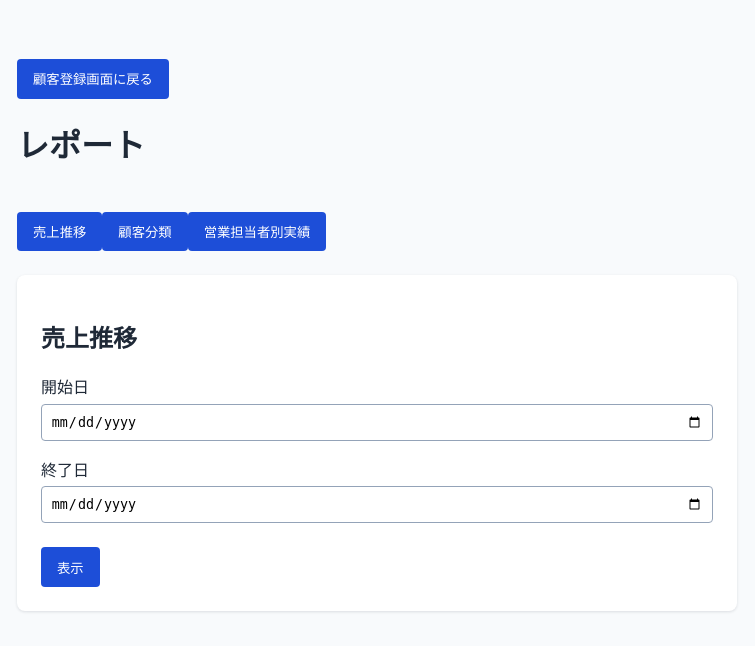
it: 営業担当者別実績レポート › 正しい期間でAPIを呼び、レスポンス順に金額と整数件数を表へ表示する
Click the button "営業担当者別実績": (257,232) [188, 212, 326, 252]
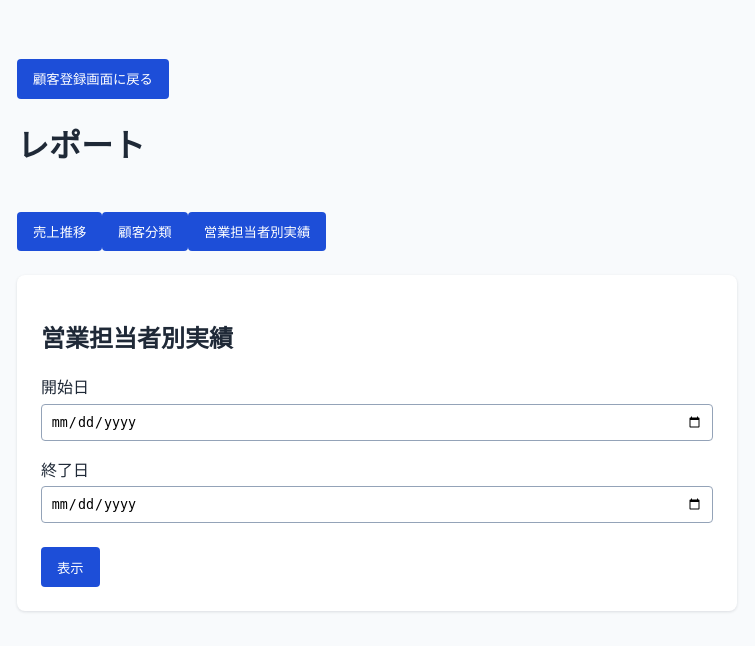
In the date field labelled "開始日": (377,422) [41, 404, 713, 441], type "2026-01-01"
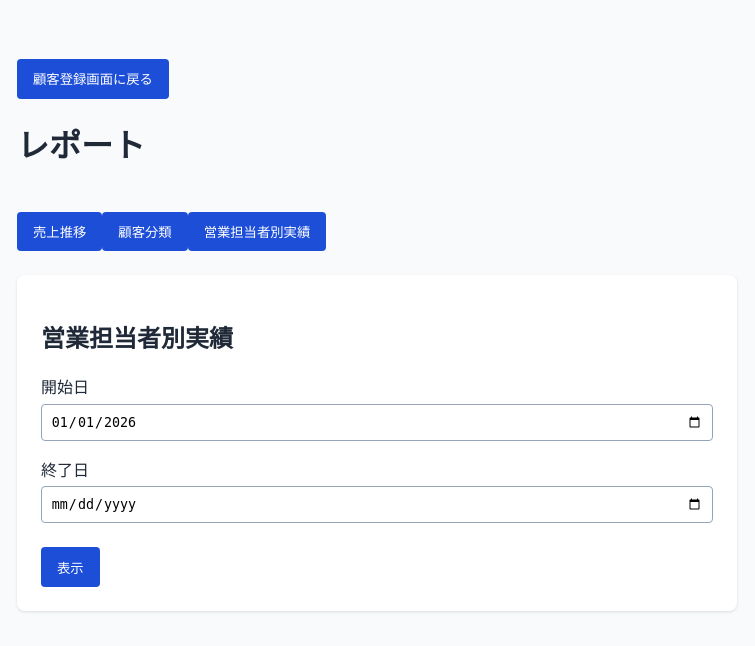
In the date field labelled "終了日": (377,505) [41, 486, 713, 523], type "2026-03-31"
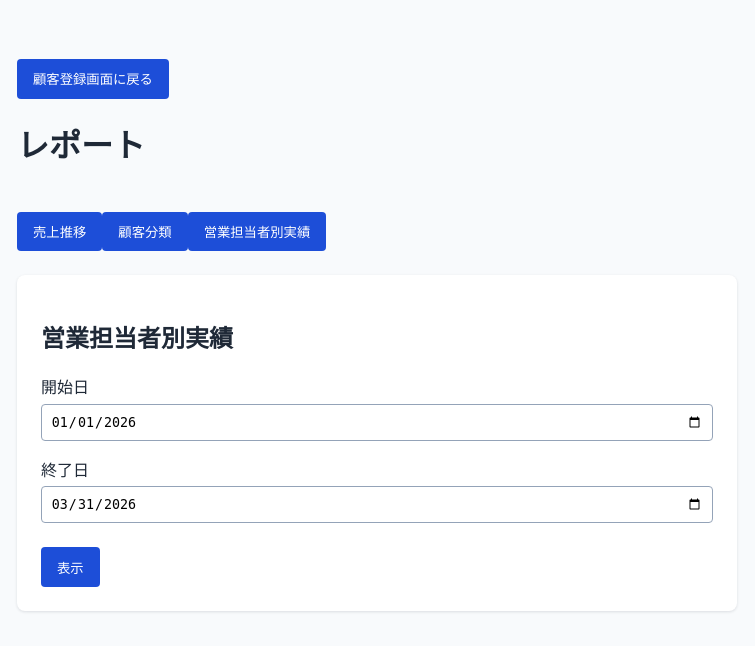
Click the button "表示": (70,567) [41, 547, 100, 587]
(page scrolled)
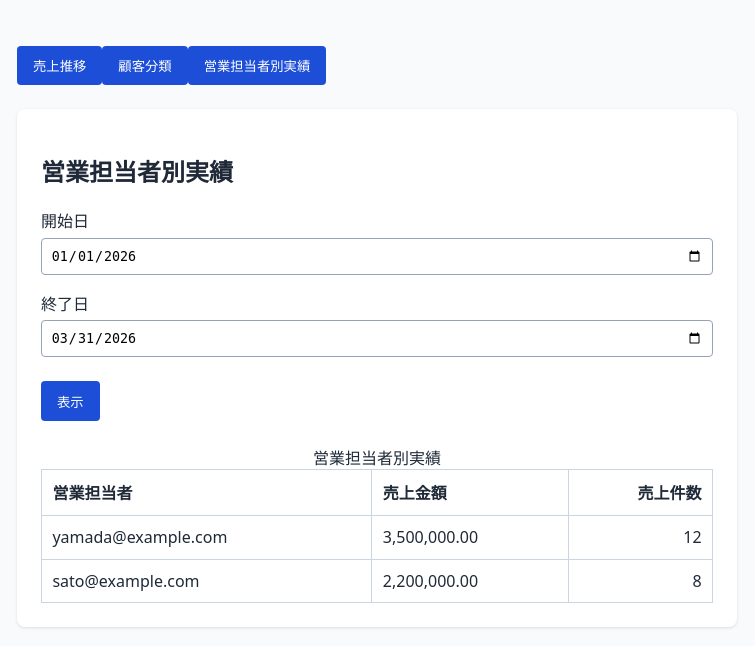
Expected: the table "営業担当者別実績" is shown, [41, 445, 713, 603]
Expected: the column headings read "営業担当者", "売上金額", "売上件数", in this order, [42, 470, 372, 515]; [372, 470, 568, 515]; [568, 470, 712, 515]
Expected: the cells read "yamada@example.com", "3,500,000.00", "12", "sato@example.com", "2,200,000.00", "8", in this order, [42, 515, 372, 559]; [372, 515, 568, 559]; [568, 515, 712, 559]; [42, 559, 372, 603]; [372, 559, 568, 603]; [568, 559, 712, 603]
